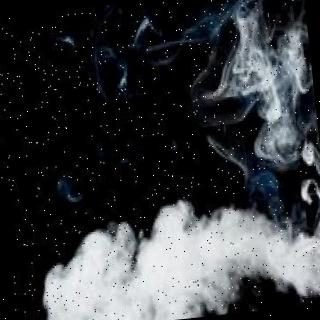smoke: (52, 192, 320, 320), (215, 5, 320, 170)
